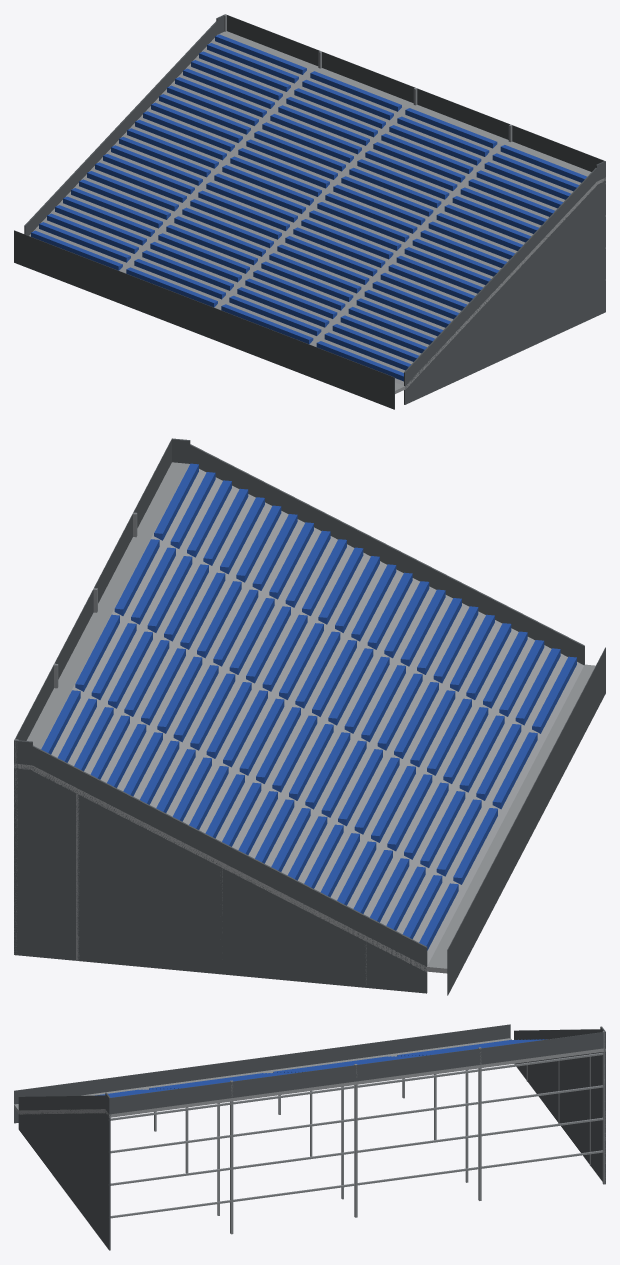
Rendered from spa_stand_gold4b.glb.
3 views of the same model, one above another, from view 1: azimuth 30°, elevation 25°; view 2: azimuth 150°, elevation 25°; view 3: azimuth 270°, elevation 25° (orthographic). The views are drawn at different scales.
Parts seen in each view (by area): view 1: spa-gold4b; view 2: spa-gold4b; view 3: spa-gold4b.
Part boxes in pixels (box(x1,y1,x2,y2)): spa-gold4b: box(14, 14, 605, 409); spa-gold4b: box(14, 438, 605, 995); spa-gold4b: box(14, 1024, 605, 1250).
Size of the model in its own units: 30.65 by 11.24 by 39.57.
